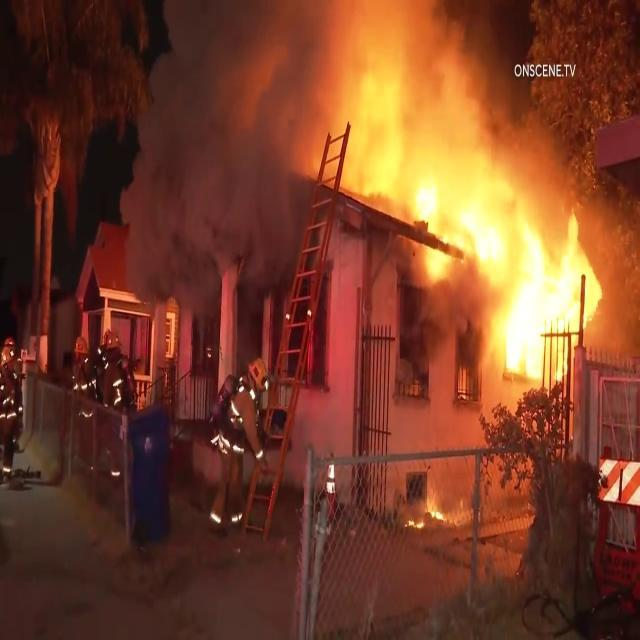Fire: (388, 93, 595, 354)
Smoke: (156, 0, 316, 257)
